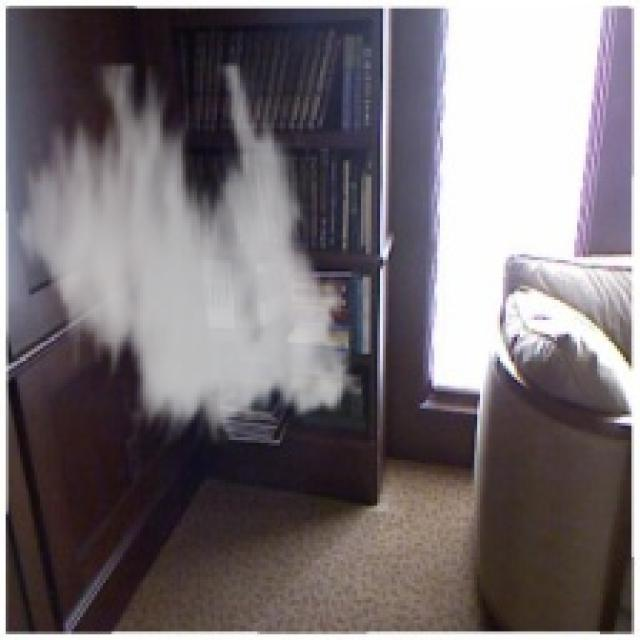smoke: (6, 63, 368, 446)
